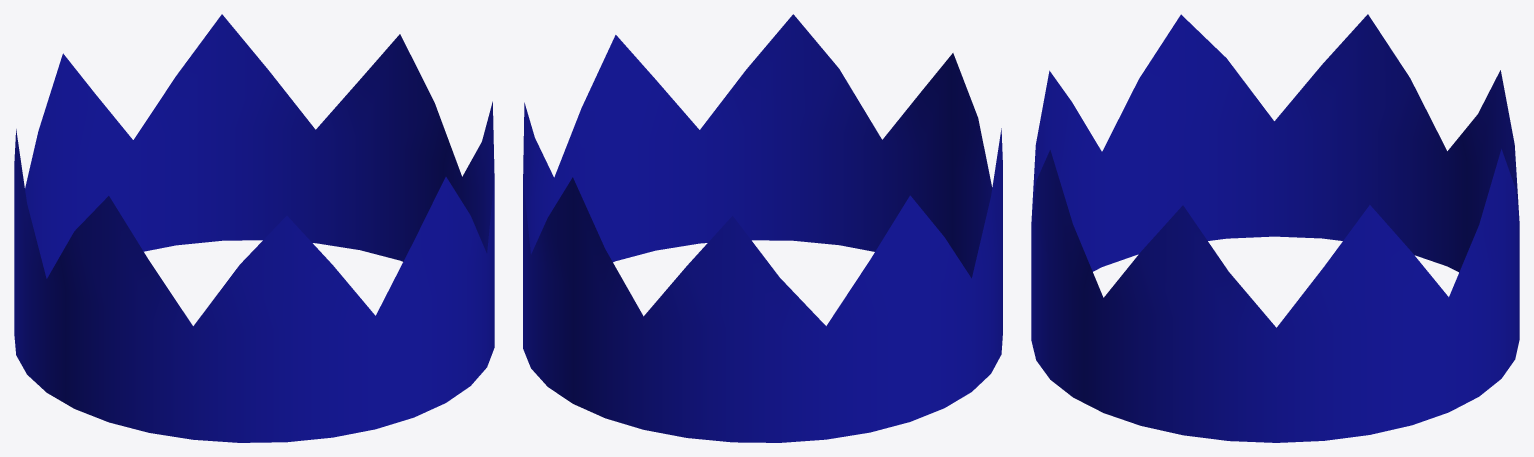
The model's file is Party hat Runescape.gltf.
3 views of the same model, side by side, from view 1: azimuth 30°, elevation 25°; view 2: azimuth 150°, elevation 25°; view 3: azimuth 270°, elevation 25° (orthographic).
Parts seen in each view (by area): view 1: Blue phat; view 2: Blue phat; view 3: Blue phat.
Part boxes in pixels (x1,y1,x2,y2): Blue phat: (14,14,494,442); Blue phat: (523,14,1002,442); Blue phat: (1031,14,1519,442).
Bounding box in the file's own units: 0.2985 × 0.1553 × 0.2985.
